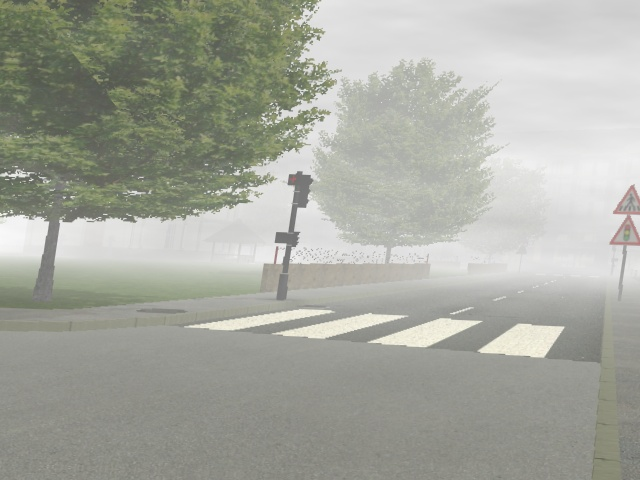Pedestrian crossing: (605, 178, 639, 214)
Traffic lights: (606, 213, 639, 250)
